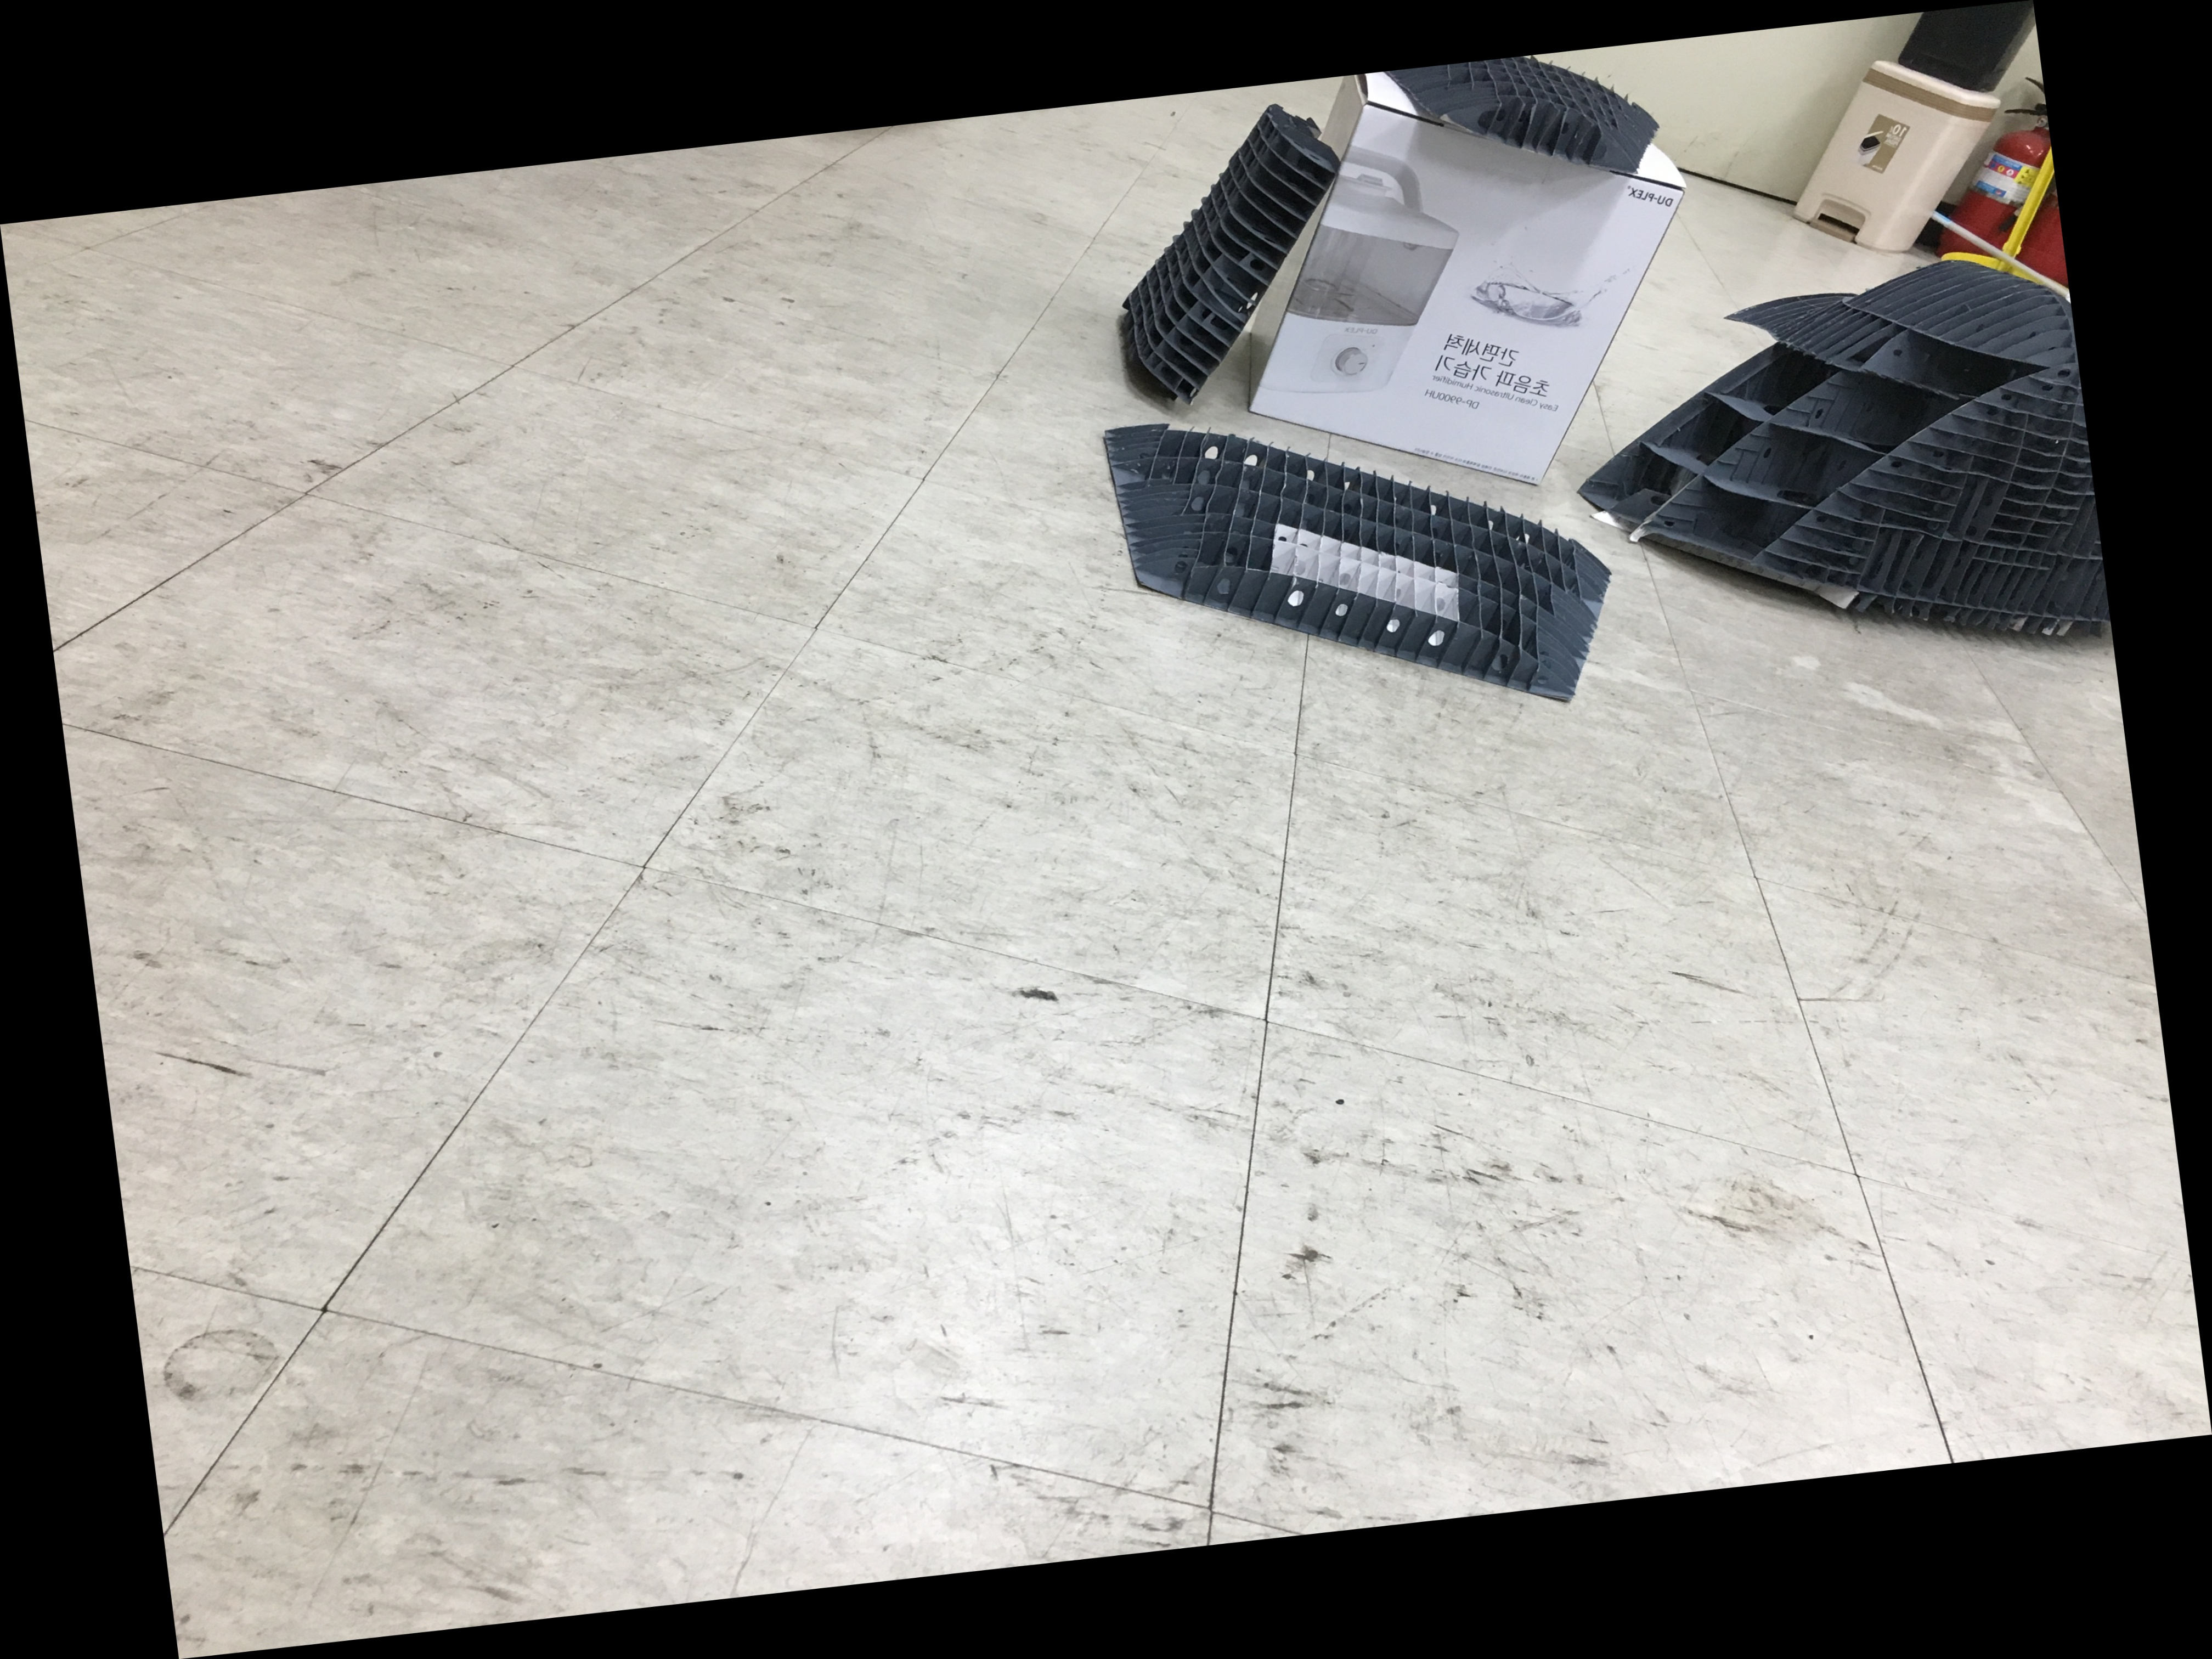A: (1050, 80, 1413, 453)
C: (1059, 357, 1653, 777)
D: (1526, 218, 2114, 708)
